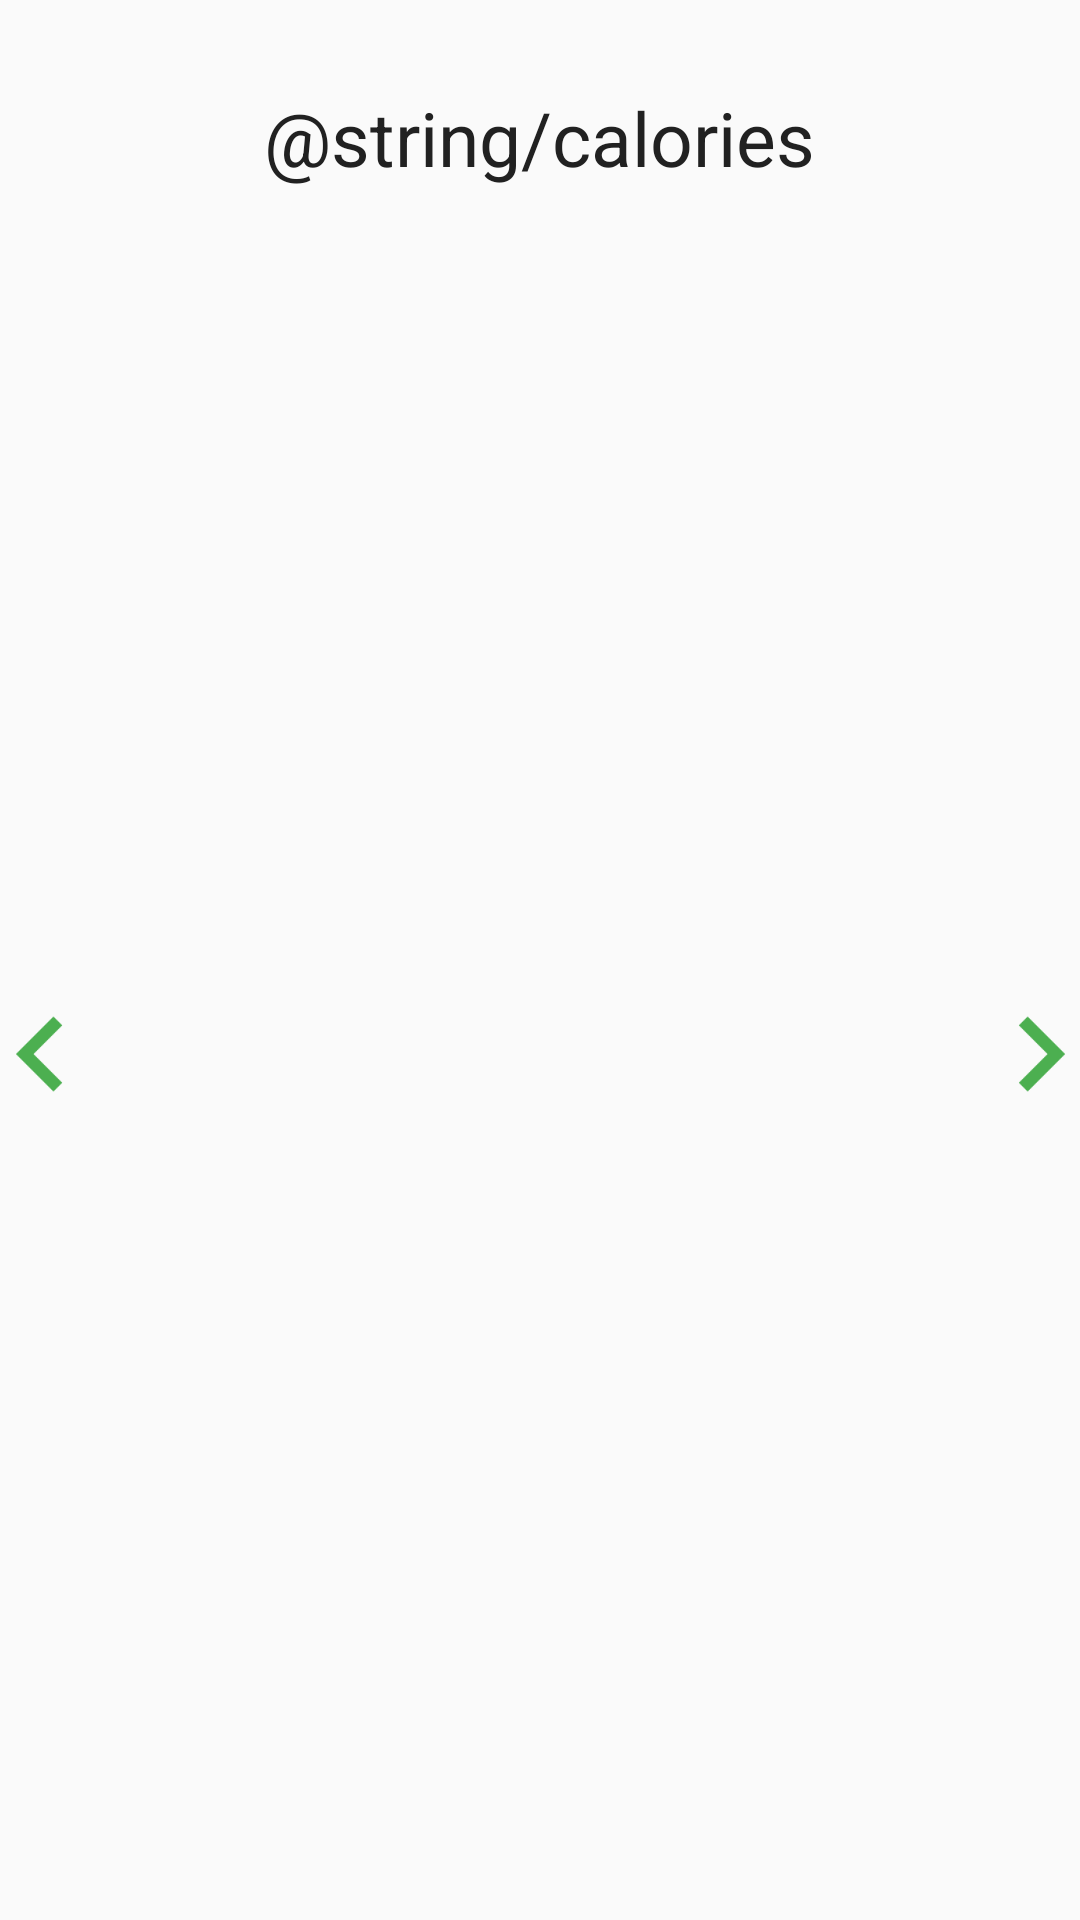

Locate icon controls on the screen. Image size 1080px×1920px, boxes as (x1, y1, x2, y2).
navigate before: (16, 1016, 62, 1092)
navigate next: (1019, 1016, 1065, 1092)
